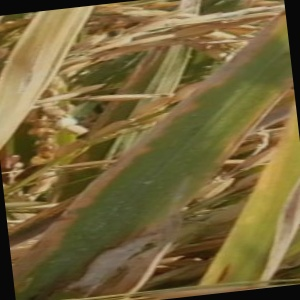Leaf_Blast: (192, 48, 269, 144), (247, 175, 300, 278)
